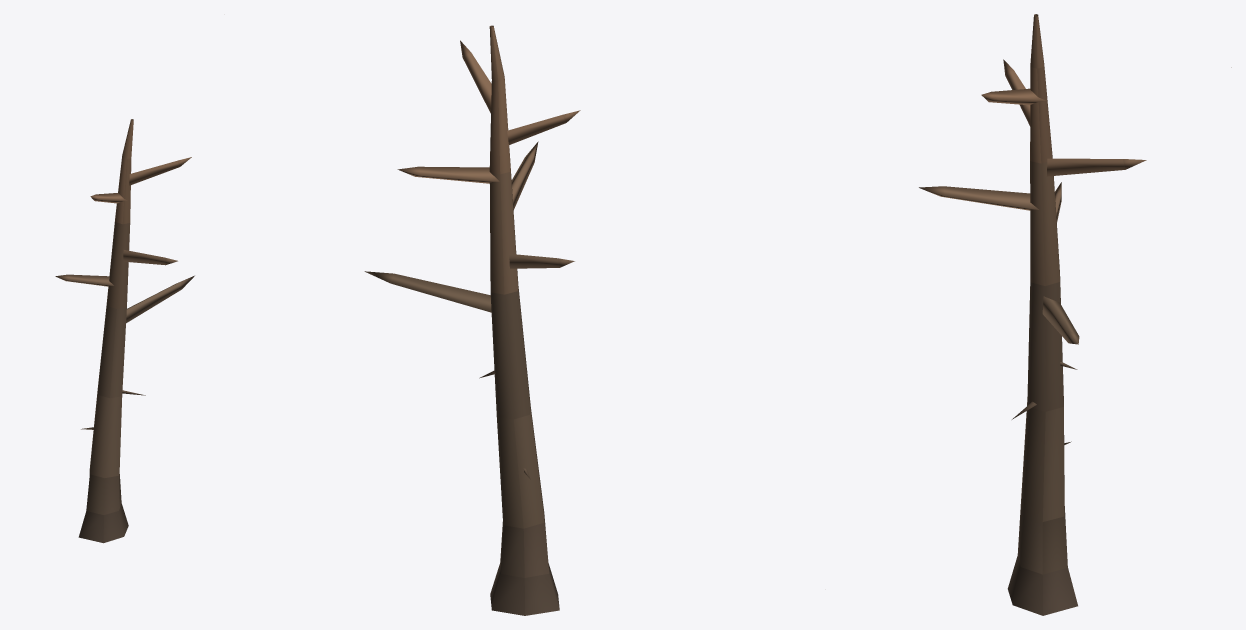
The model's file is ShorePine2_lite_bark.glb.
3 views of the same model, side by side, from view 1: azimuth 30°, elevation 25°; view 2: azimuth 150°, elevation 25°; view 3: azimuth 270°, elevation 25° (orthographic). The views are drawn at different scales.
Parts seen in each view (by area): view 1: ShorePine2_lite_bark; view 2: ShorePine2_lite_bark; view 3: ShorePine2_lite_bark.
Part boxes in pixels (bbox=[...]): ShorePine2_lite_bark: bbox=[55, 119, 194, 543]; ShorePine2_lite_bark: bbox=[364, 25, 580, 615]; ShorePine2_lite_bark: bbox=[919, 14, 1231, 615].
Bounding box in the file's own units: 15.11 × 20.45 × 10.93.
